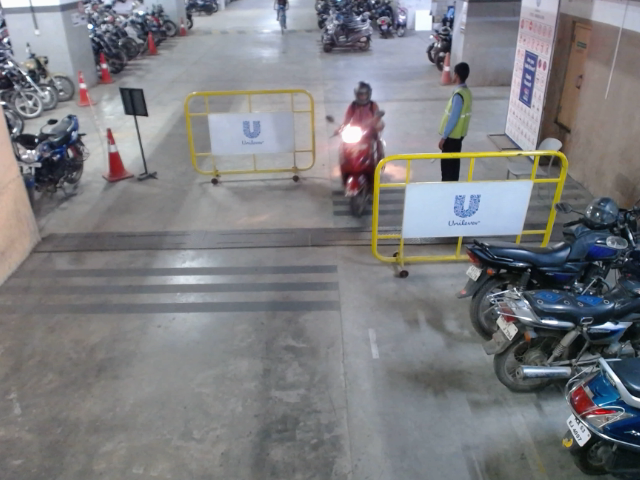with_helmet: (352, 80, 372, 104)
